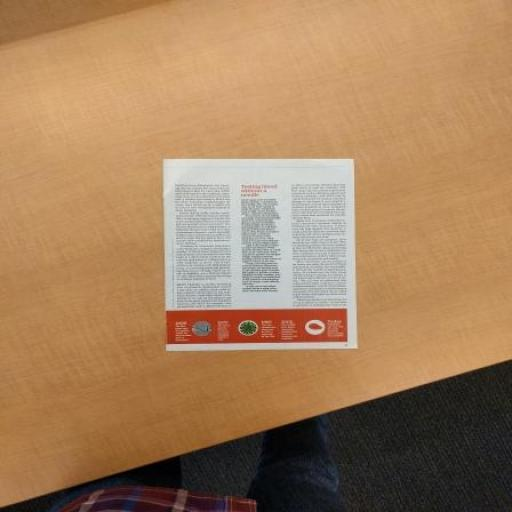paper: (92, 114, 438, 388)
